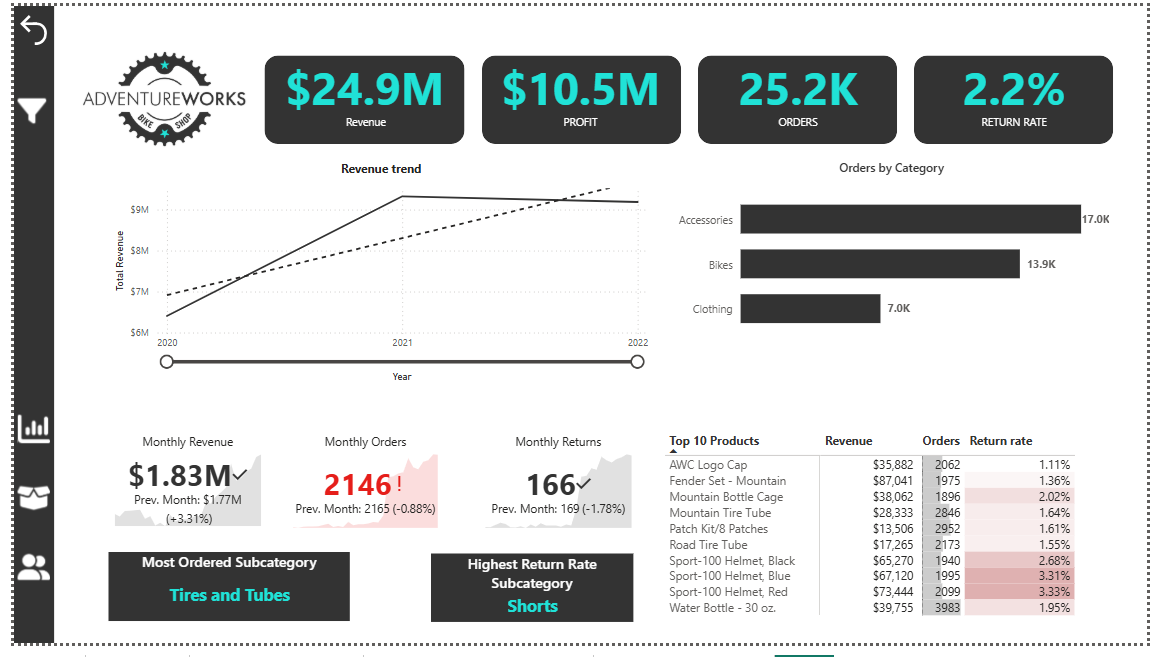

The dashboard page shown, as its layout file describes it:
{"tool":"powerbi","page":{"name":"Exec Dashboard","canvas":[1280,720],"ordinal":0},"visuals":[{"type":"shape","title":"Left Nav background","box":[0,0,45.3,720.6],"z":0},{"type":"card","fields":{"Values":["Measures table (non_dax).Total Revenue"]},"box":[283.2,23.2,225.3,149.1],"z":0,"group":"g2"},{"type":"group","id":"g1","title":"KPI Background","box":[282.8,55.4,958.3,100],"z":0,"group":"g3"},{"type":"shape","box":[527.9,55.4,225,100],"z":0,"group":"g1"},{"type":"actionButton","box":[0.6,453.9,44.7,48],"z":0,"group":"g4"},{"type":"group","id":"g2","title":"KPI VALUES","box":[283.2,23.2,959.1,149.1],"z":1000,"group":"g3"},{"type":"card","fields":{"Values":["Measures table (non_dax).Total Profit"]},"box":[527.8,23.2,225.3,149.1],"z":1000,"group":"g2"},{"type":"image","title":"AW logo","box":[58.3,37.2,225.1,136],"z":1000},{"type":"shape","box":[282.8,55.4,226,100],"z":1000,"group":"g1"},{"type":"actionButton","box":[0.6,531.8,44.7,48],"z":1000,"group":"g4"},{"type":"group","id":"g3","title":"KPI","box":[282.8,23.2,959.5,149.1],"z":2000},{"type":"card","fields":{"Values":["Measures table (non_dax).Total Orders"]},"box":[772.4,23.2,225.3,149.1],"z":2000,"group":"g2"},{"type":"shape","box":[772,55.4,225,100],"z":2000,"group":"g1"},{"type":"actionButton","box":[0.6,609.6,44.7,48],"z":2000,"group":"g4"},{"type":"card","fields":{"Values":["Measures table (non_dax).Return rate"]},"box":[1017,23.2,225.3,149.1],"z":3000,"group":"g2"},{"type":"shape","box":[1016.1,55.4,225,100],"z":3000,"group":"g1"},{"type":"lineChart","title":"Revenue trend","fields":{"Category":["Calendar Lookup.Year","Calendar Lookup.Start of Quarter","Calendar Lookup.Start of Month"],"Y":["Measures table (non_dax).Total Revenue"]},"box":[107.7,173.9,612.9,255.1],"z":3000},{"type":"kpi","title":"Monthly Revenue","fields":{"Goal":["Measures table (non_dax).Previous Month Revenue"],"Indicator":["Measures table (non_dax).Total Revenue"],"TrendLine":["Calendar Lookup.Start of Month"]},"box":[107.7,483.8,175.7,109.6],"z":4000},{"type":"kpi","title":"Monthly Orders","fields":{"Goal":["Measures table (non_dax).Previous Month Orders"],"Indicator":["Measures table (non_dax).Total Orders"],"TrendLine":["Calendar Lookup.Start of Month"]},"box":[309.9,483.8,173.9,111.5],"z":5000},{"type":"kpi","title":"Monthly Returns","fields":{"Goal":["Measures table (non_dax).Previous Month Return"],"Indicator":["Measures table (non_dax).Total returns"],"TrendLine":["Calendar Lookup.Start of Month"]},"box":[527.2,483.8,175.7,111.5],"z":6000},{"type":"clusteredBarChart","title":" Orders by Category","fields":{"Category":["Product Categories Lookup.CategoryName"],"Y":["Measures table (non_dax).Total Orders"]},"box":[740.9,173.3,501.9,213.1],"z":7000},{"type":"pivotTable","fields":{"Rows":["Product Lookup.ProductName"],"Values":["Measures table (non_dax).Total Revenue","Measures table (non_dax).Total Orders","Measures table (non_dax).Return rate"]},"box":[731,476,511.9,219.1],"z":8000},{"type":"card","title":"Most Ordered Subcategory","fields":{"Values":["Min(Product Subcategories Lookup.SubcategoryName)"]},"box":[107.6,617.4,272.9,77.7],"z":9000},{"type":"card","title":"Highest Return Rate Subcategory","fields":{"Values":["Min(Product Subcategories Lookup.SubcategoryName)"]},"box":[470.6,618,228.7,77.5],"z":10000},{"type":"actionButton","box":[0,0,44.7,54.7],"z":11000},{"type":"group","id":"g4","title":"Navigation buttons","box":[0.6,453.9,44.7,203.7],"z":12000},{"type":"actionButton","box":[0,98.2,44.3,40.4],"z":13000}]}

Visuals, with their boxes on the page's 1280x720 design canvas (x1, y1, x2, y2). These are canvas units, not pixel positions in the 1162x657 screenshot, which may show the page scaled, cropped or inside an application window:
"Left Nav background" shape: [0,0,45,721]
card - Measures table (non_dax).Total Revenue: [283,23,508,172]
"KPI Background" group: [283,55,1241,155]
shape: [528,55,753,155]
actionButton: [1,454,45,502]
"KPI VALUES" group: [283,23,1242,172]
card - Measures table (non_dax).Total Profit: [528,23,753,172]
"AW logo" image: [58,37,283,173]
shape: [283,55,509,155]
actionButton: [1,532,45,580]
"KPI" group: [283,23,1242,172]
card - Measures table (non_dax).Total Orders: [772,23,998,172]
shape: [772,55,997,155]
actionButton: [1,610,45,658]
card - Measures table (non_dax).Return rate: [1017,23,1242,172]
shape: [1016,55,1241,155]
"Revenue trend" lineChart: [108,174,721,429]
"Monthly Revenue" kpi: [108,484,283,593]
"Monthly Orders" kpi: [310,484,484,595]
"Monthly Returns" kpi: [527,484,703,595]
" Orders by Category" clusteredBarChart: [741,173,1243,386]
pivotTable - Product Lookup.ProductName x Measures table (non_dax).Total Revenue: [731,476,1243,695]
"Most Ordered Subcategory" card: [108,617,380,695]
"Highest Return Rate Subcategory" card: [471,618,699,696]
actionButton: [0,0,45,55]
"Navigation buttons" group: [1,454,45,658]
actionButton: [0,98,44,139]
